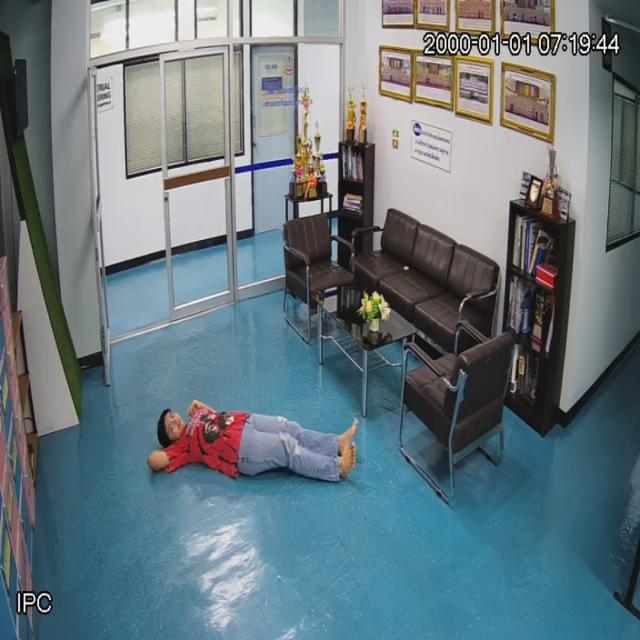fall: (151, 399, 354, 486)
